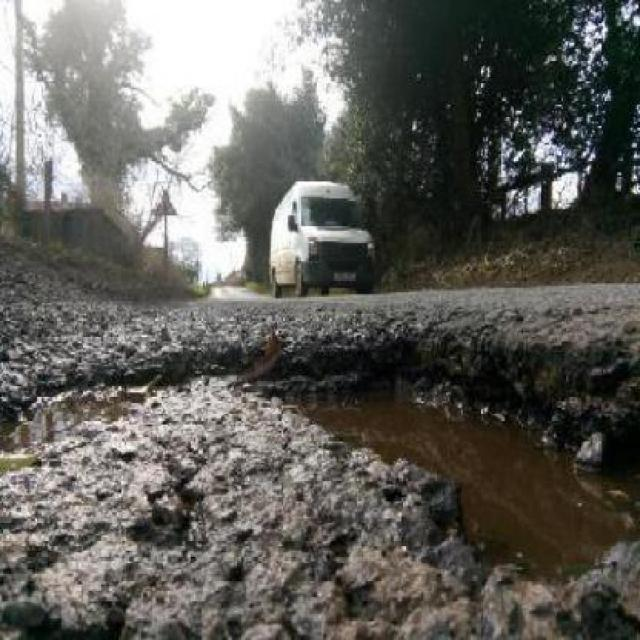Pothole: (0, 331, 638, 604)
